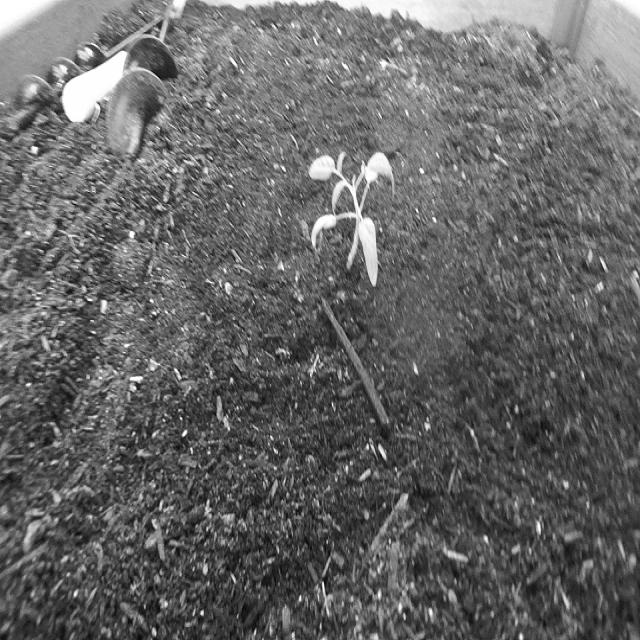Healthy: (301, 115, 405, 301)
